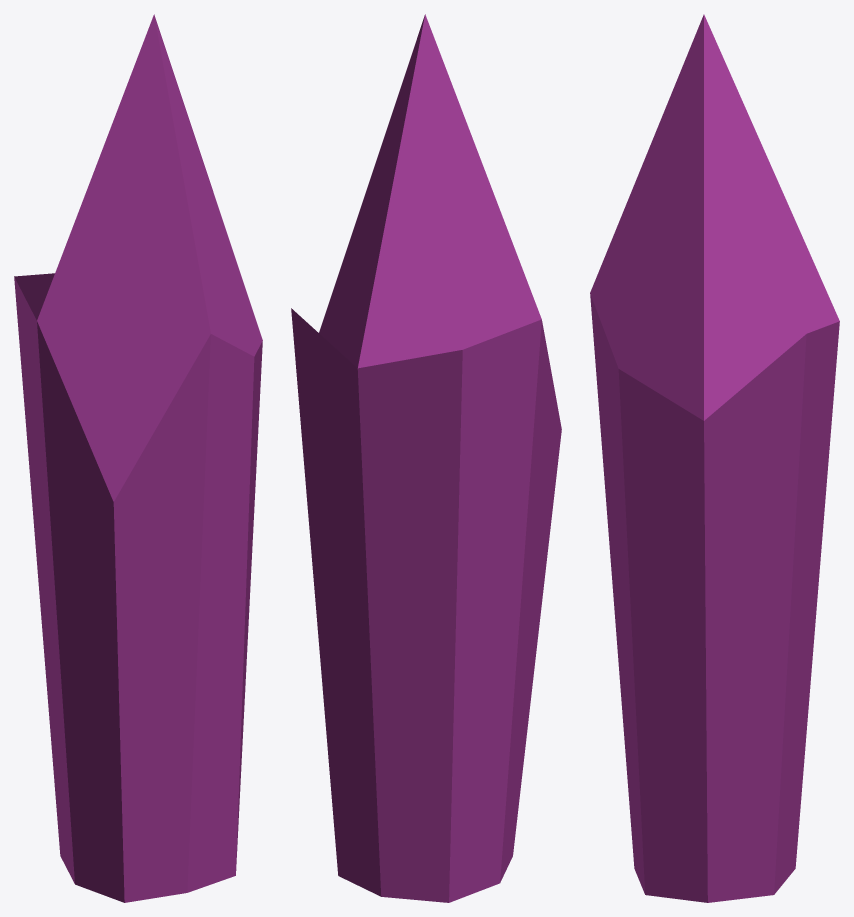
The model's file is Crystal1.fbx.
3 renders of one model, left to right at view 1: azimuth 30°, elevation 25°; view 2: azimuth 150°, elevation 25°; view 3: azimuth 270°, elevation 25°, orthographic.
Visible parts, largest first — view 1: pCube156; view 2: pCube156; view 3: pCube156.
Part boxes in pixels (x1,y1,x2,y2): pCube156: [14, 14, 262, 902]; pCube156: [291, 14, 561, 902]; pCube156: [590, 14, 839, 902].
Size of the model in its own units: 1.31 by 4.73 by 1.25.
